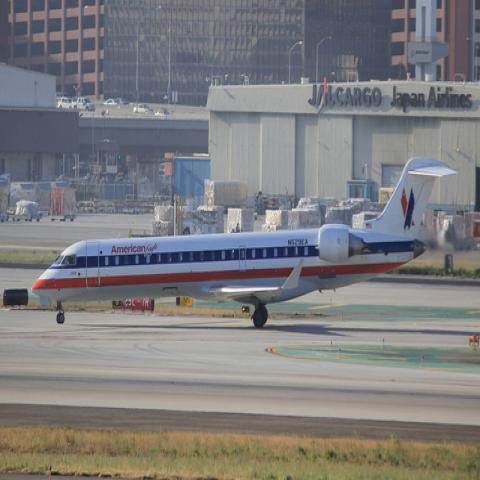car: (76, 96, 96, 111), (133, 104, 154, 114), (58, 97, 75, 109), (114, 97, 130, 105), (55, 91, 69, 100), (154, 109, 171, 115), (103, 99, 118, 105)
truck: (181, 211, 219, 235), (50, 187, 76, 222), (15, 199, 41, 222)
